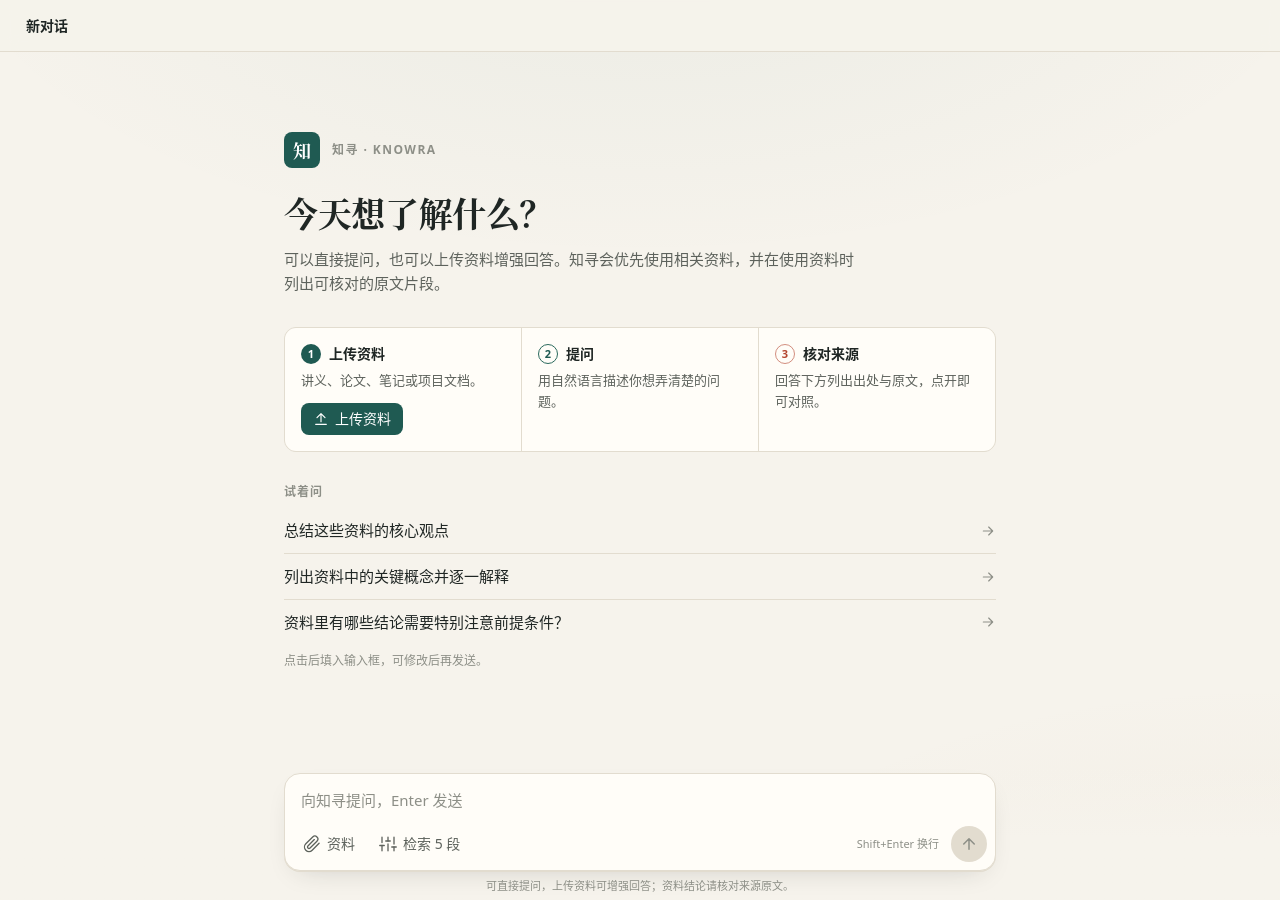
ChatArea 问答流 › 回答下方直接显示来源列表，顺序为 回答 → 来源 → 检索详情
In the text box with test id "chat-input": (640, 800) [285,774,995,826], type "什么是特征值"
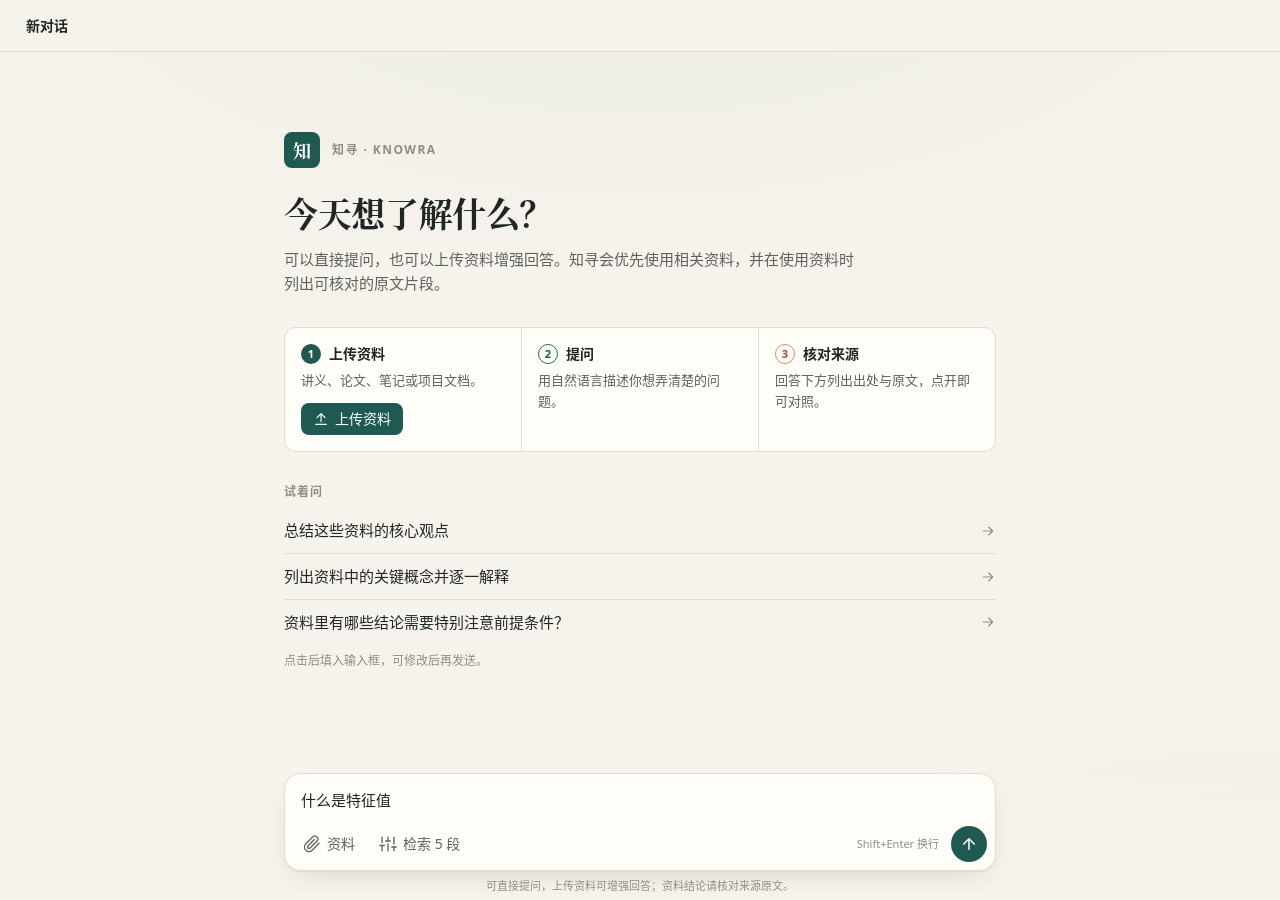
Press Enter in the text box with test id "chat-input", box [285,774,995,826]
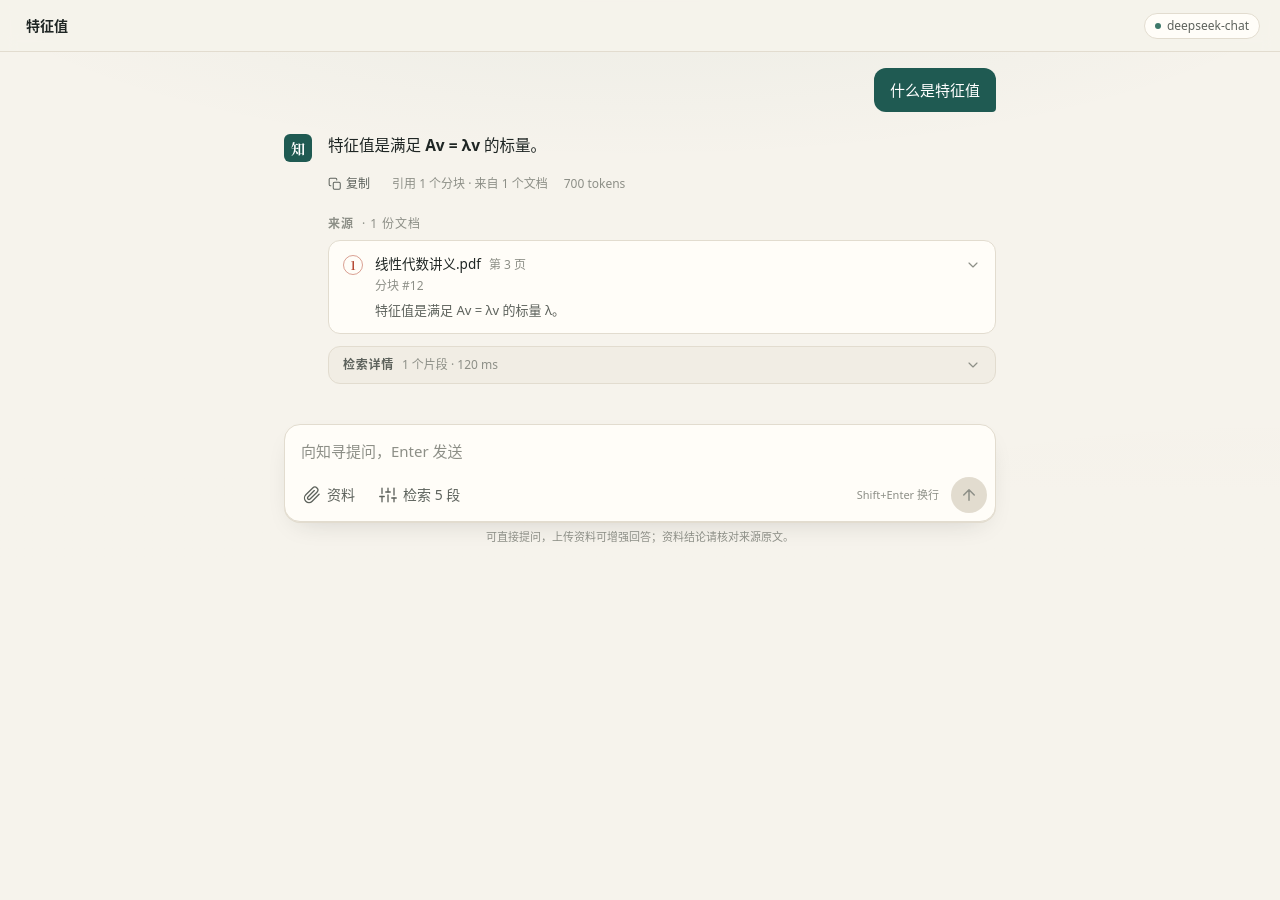
Check: the element with test id "source-list" is shown, box [328,216,996,334]
Check: the text with test id "source-doc-name" reads "线性代数讲义.pdf", box [375,255,481,273]
